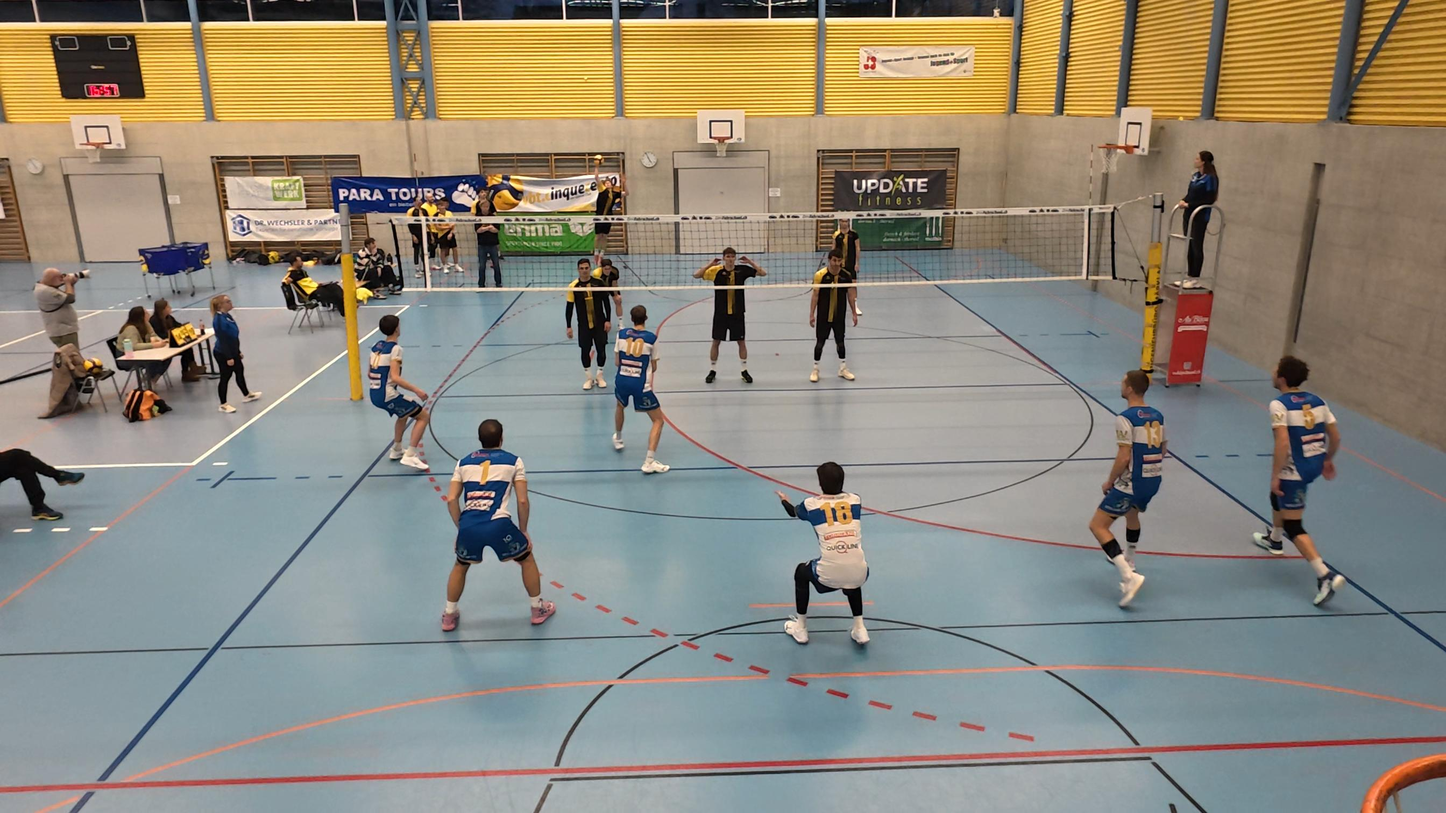battuta: (586, 155, 630, 267)
